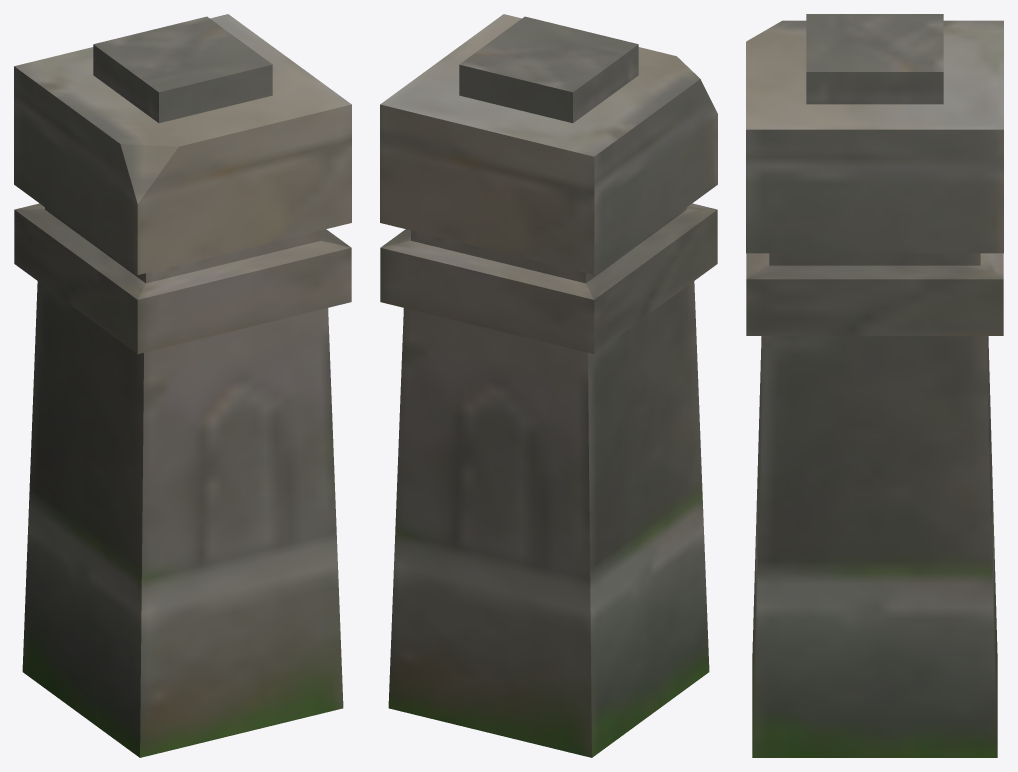
Rendered from boss_1_shitou.FBX.
3 renders of one model, left to right at view 1: azimuth 30°, elevation 25°; view 2: azimuth 150°, elevation 25°; view 3: azimuth 270°, elevation 25°, orthographic. The views are drawn at different scales.
Visible parts, largest first — view 1: Object001; view 2: Object001; view 3: Object001.
Part boxes in pixels (left/top/right/bottom): Object001: left=14, top=14, right=351, bottom=757; Object001: left=380, top=14, right=717, bottom=757; Object001: left=746, top=14, right=1003, bottom=757.
Bounding box in the file's own units: 112 × 317 × 112.
